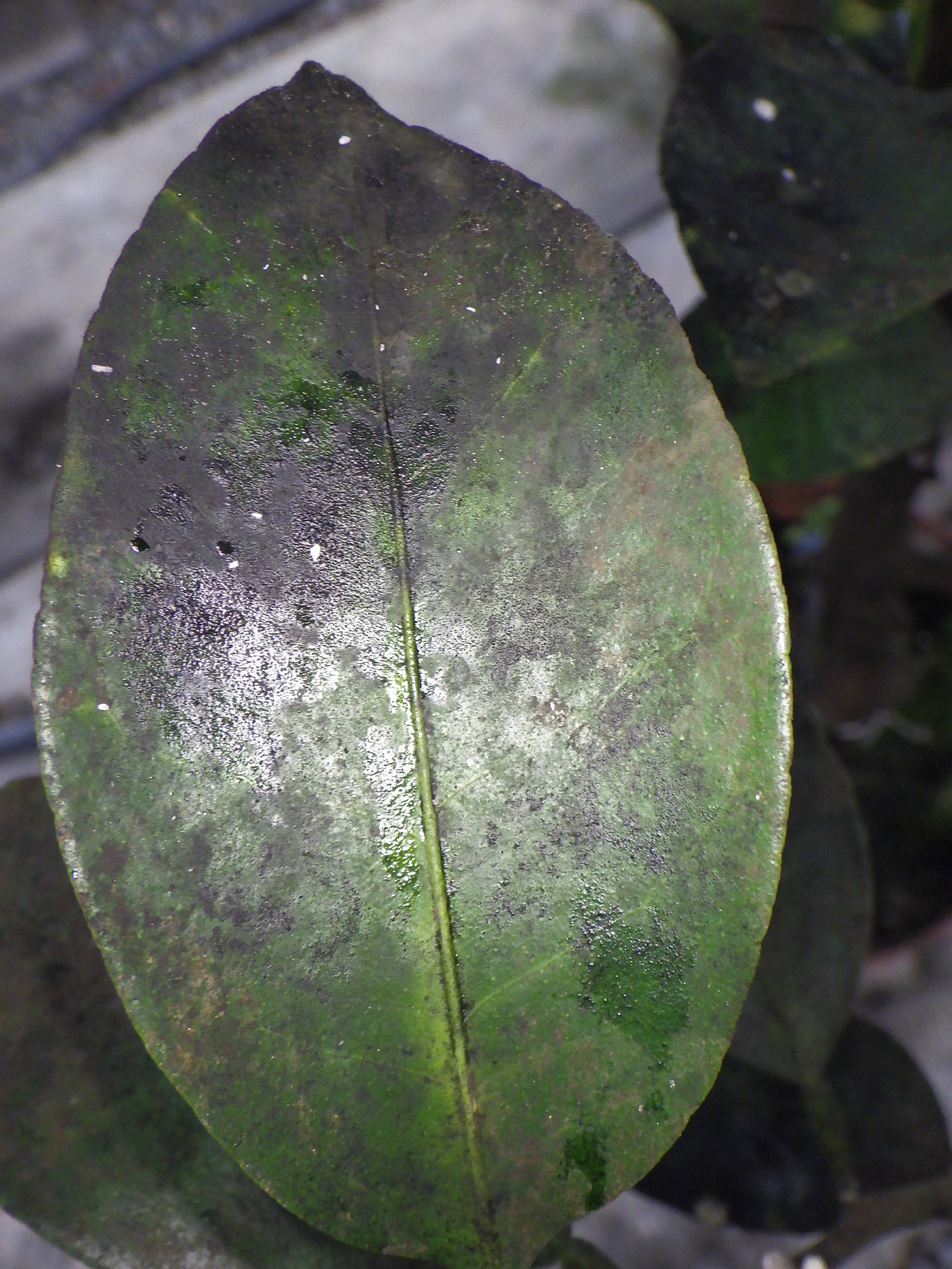Sooty_Mold: (33, 63, 791, 1268)
